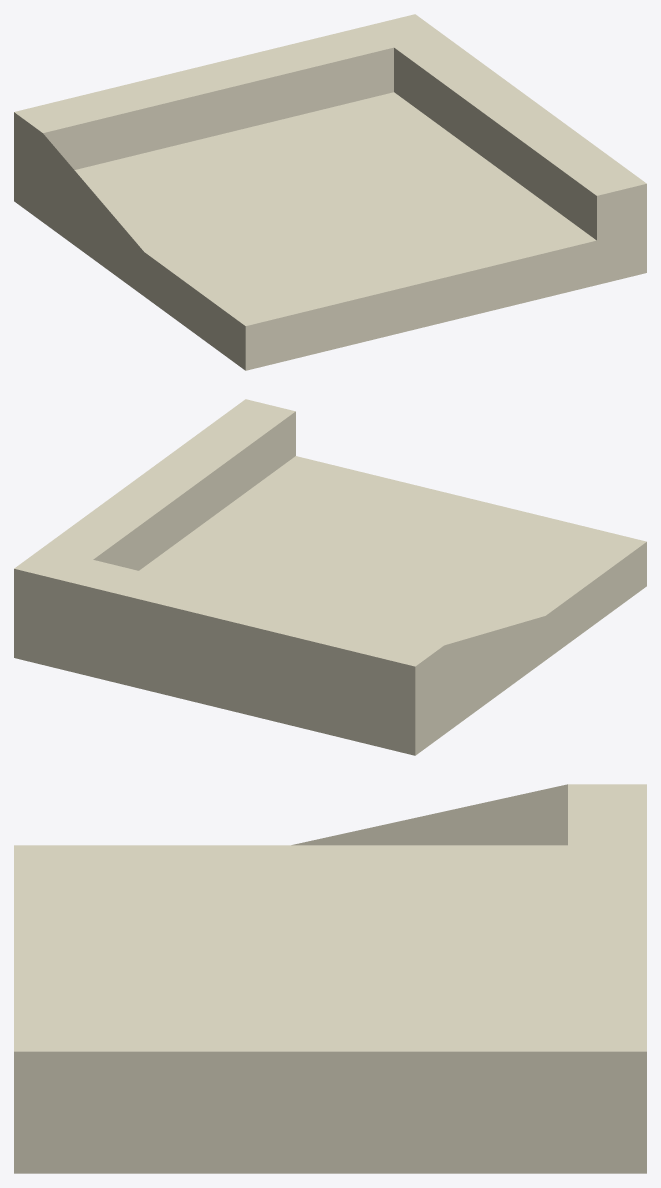
The model's file is modularbuildings_008.glb.
The picture shows the model from 3 angles, top to bottom: view 1: azimuth 30°, elevation 25°; view 2: azimuth 150°, elevation 25°; view 3: azimuth 270°, elevation 25°; orthographic projection. The views are drawn at different scales.
Parts seen in each view (by area): view 1: Mesh1 Group1 Model; view 2: Mesh1 Group1 Model; view 3: Mesh1 Group1 Model.
Boxes of the visible parts, box(x1,y1,x2,y2) form: Mesh1 Group1 Model: box(14, 14, 646, 370); Mesh1 Group1 Model: box(14, 399, 646, 755); Mesh1 Group1 Model: box(14, 784, 646, 1173).
Bounding box in the file's own units: 1 × 0.2125 × 1.
